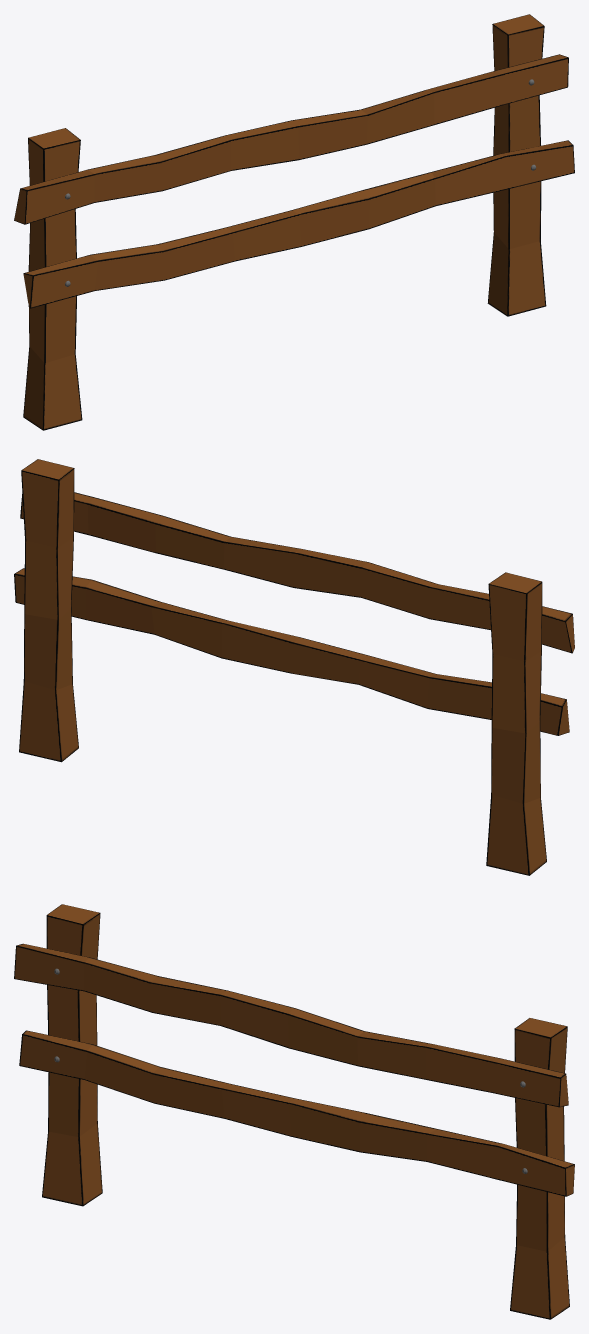
File: fence.fbx
The picture shows the model from 3 angles, top to bottom: view 1: azimuth 30°, elevation 25°; view 2: azimuth 150°, elevation 25°; view 3: azimuth 330°, elevation 25°; orthographic projection.
Visible parts, largest first — view 1: fence; view 2: fence; view 3: fence.
Boxes of the visible parts, <box> form: fence: <box>14,14,574,430</box>; fence: <box>14,459,574,875</box>; fence: <box>14,904,574,1319</box>.
Size of the model in its own units: 495 by 238 by 40.49.
Materials: 1 (1 with a texture image).
